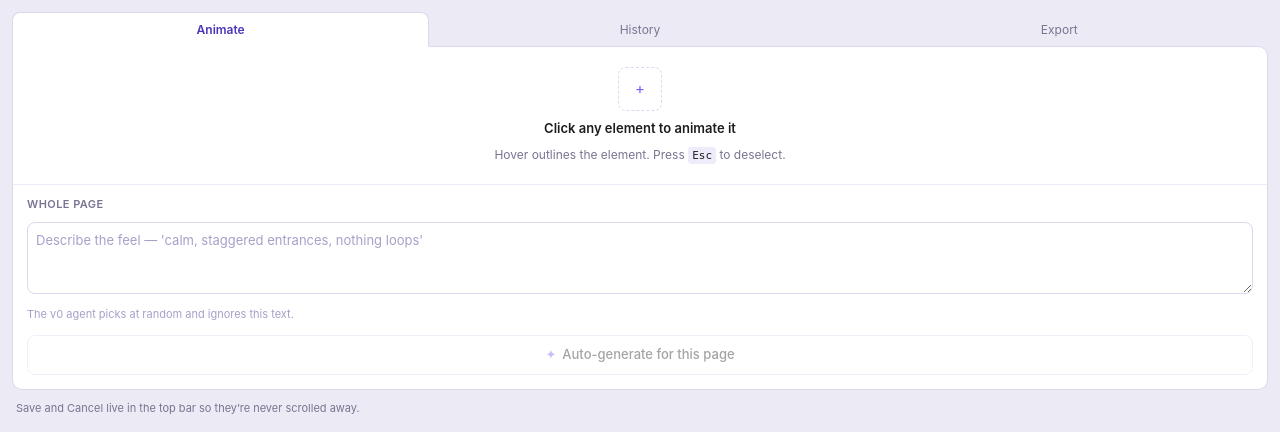
Test: ControlPanel · History and viewing › mounts the History tab once the shell hands it a project's history
Click the tab "History".
click(640, 30)  # box [431,12,849,47]
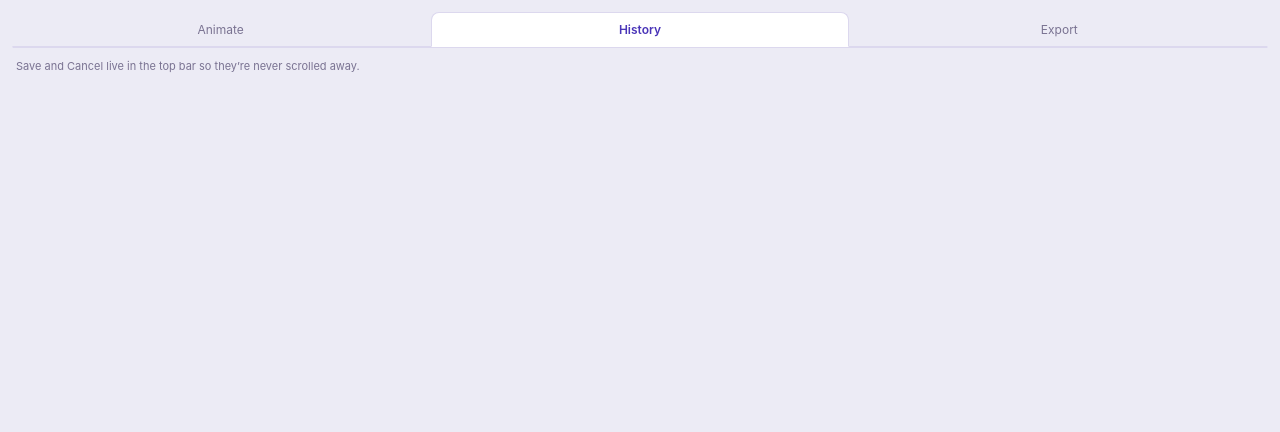
Now the element with test id "panel-history" is shown, box [12,46,1268,48]
